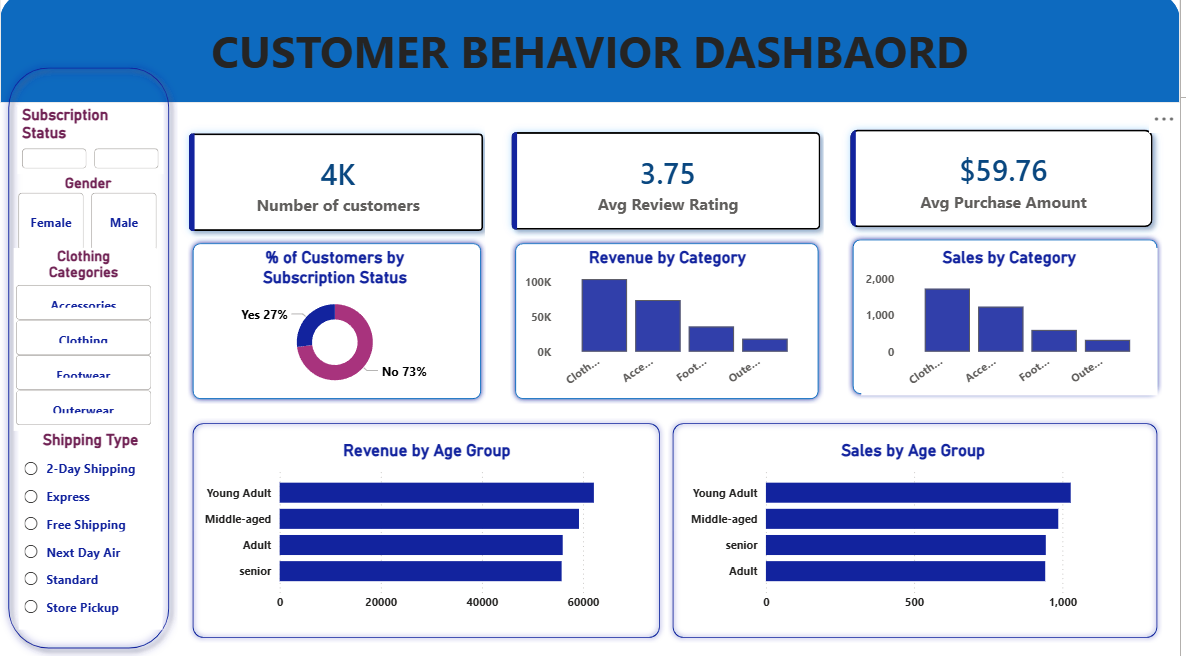

What the dashboard file says about the page in this screenshot:
{"tool":"powerbi","page":{"name":"Page 1","canvas":[1280,720],"ordinal":0},"visuals":[{"type":"cardVisual","fields":{"Data":["public customer_behavior.Number of customers"]},"box":[176.3,123.4,377,164.1],"z":0},{"type":"cardVisual","fields":{"Data":["public customer_behavior.Avg Review Rating"]},"box":[526.8,121.4,393.3,164.1],"z":1000},{"type":"cardVisual","fields":{"Data":["public customer_behavior.Avg Purchase Amount"]},"box":[893.8,119.3,386.5,164.1],"z":2000},{"type":"shape","box":[0,0,1280.3,119.3],"z":3000},{"type":"textbox","box":[0,24.7,1280.3,149.6],"z":4000},{"type":"shape","box":[203.4,265.8,324.1,180.4],"z":5000},{"type":"donutChart","title":"% of Customers by Subscription Status","fields":{"Category":["public customer_behavior.subscription_status"],"Y":["CountNonNull(public customer_behavior.customer_id)"]},"box":[215.6,276.7,295.7,160],"z":6000},{"type":"shape","box":[554,266.5,340.4,180.4],"z":7000},{"type":"shape","box":[919.5,261.8,341.8,179],"z":8000},{"type":"clusteredColumnChart","title":"Revenue by Category","fields":{"Y":["Sum(public customer_behavior.purchase_amount)"],"Category":["public customer_behavior.category"]},"box":[564.2,276.7,320.1,160],"z":9000},{"type":"clusteredColumnChart","title":"Sales by Category","fields":{"Category":["public customer_behavior.category"],"Y":["CountNonNull(public customer_behavior.customer_id)"]},"box":[934.4,276.7,321.4,160],"z":10000},{"type":"shape","box":[0,71.9,192.6,648.3],"z":10001},{"type":"advancedSlicerVisual","title":"Subscription Status","fields":{"Values":["public customer_behavior.subscription_status"]},"box":[19,122.1,158.7,74.6],"z":10002},{"type":"advancedSlicerVisual","title":"Gender","fields":{"Values":["public customer_behavior.gender"]},"box":[14.9,196.7,161.4,88.2],"z":10003},{"type":"advancedSlicerVisual","title":"Clothing Categories","fields":{"Values":["public customer_behavior.category"]},"box":[14.9,276.7,154.6,198],"z":10004},{"type":"listSlicer","title":"Shipping Type","fields":{"Values":["public customer_behavior.shipping_type"]},"box":[20.3,474.7,156,215.6],"z":10005},{"type":"clusteredBarChart","title":"Revenue by Age Group","fields":{"Y":["Sum(public customer_behavior.purchase_amount)"],"Category":["public customer_behavior.age_group"]},"box":[215.6,485.5,495,193.9],"z":10006},{"type":"shape","box":[724.2,461.1,537.1,244.1],"z":10007},{"type":"shape","box":[203.4,461.1,518.1,244.1],"z":10008},{"type":"clusteredBarChart","title":"Sales by Age Group","fields":{"Category":["public customer_behavior.age_group"],"Y":["CountNonNull(public customer_behavior.customer_id)"]},"box":[743.2,485.5,495,193.9],"z":10009}]}

Visuals, with their boxes in screenshot pixels (x1, y1, x2, y2), scaled from the page's 1280x720 canvas onto the 1186x656 screenshot:
cardVisual - public customer_behavior.Number of customers: locate(163, 112, 513, 262)
cardVisual - public customer_behavior.Avg Review Rating: locate(488, 111, 853, 260)
cardVisual - public customer_behavior.Avg Purchase Amount: locate(828, 109, 1185, 258)
shape: locate(0, 0, 1185, 109)
textbox: locate(0, 23, 1185, 159)
shape: locate(188, 242, 489, 407)
"% of Customers by Subscription Status" donutChart: locate(200, 252, 474, 398)
shape: locate(513, 243, 829, 407)
shape: locate(852, 239, 1169, 402)
"Revenue by Category" clusteredColumnChart: locate(523, 252, 819, 398)
"Sales by Category" clusteredColumnChart: locate(866, 252, 1164, 398)
shape: locate(0, 66, 178, 655)
"Subscription Status" advancedSlicerVisual: locate(18, 111, 165, 179)
"Gender" advancedSlicerVisual: locate(14, 179, 163, 260)
"Clothing Categories" advancedSlicerVisual: locate(14, 252, 157, 433)
"Shipping Type" listSlicer: locate(19, 433, 163, 629)
"Revenue by Age Group" clusteredBarChart: locate(200, 442, 658, 619)
shape: locate(671, 420, 1169, 643)
shape: locate(188, 420, 669, 643)
"Sales by Age Group" clusteredBarChart: locate(689, 442, 1147, 619)
